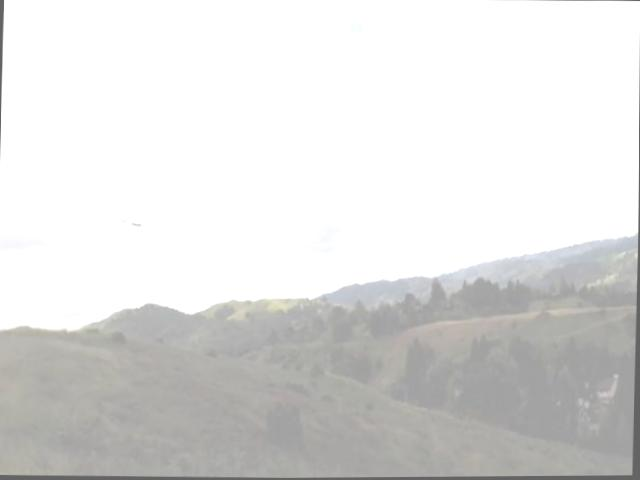iha: (110, 208, 160, 233)
